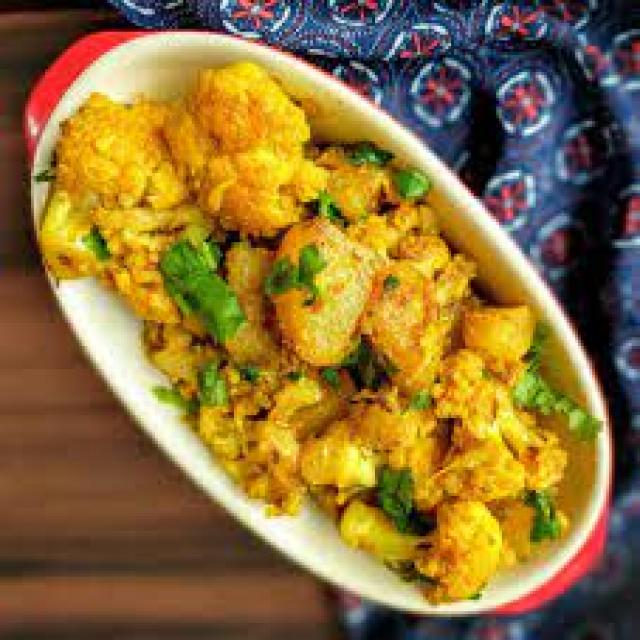Aloo Gobi: (165, 64, 422, 445)
